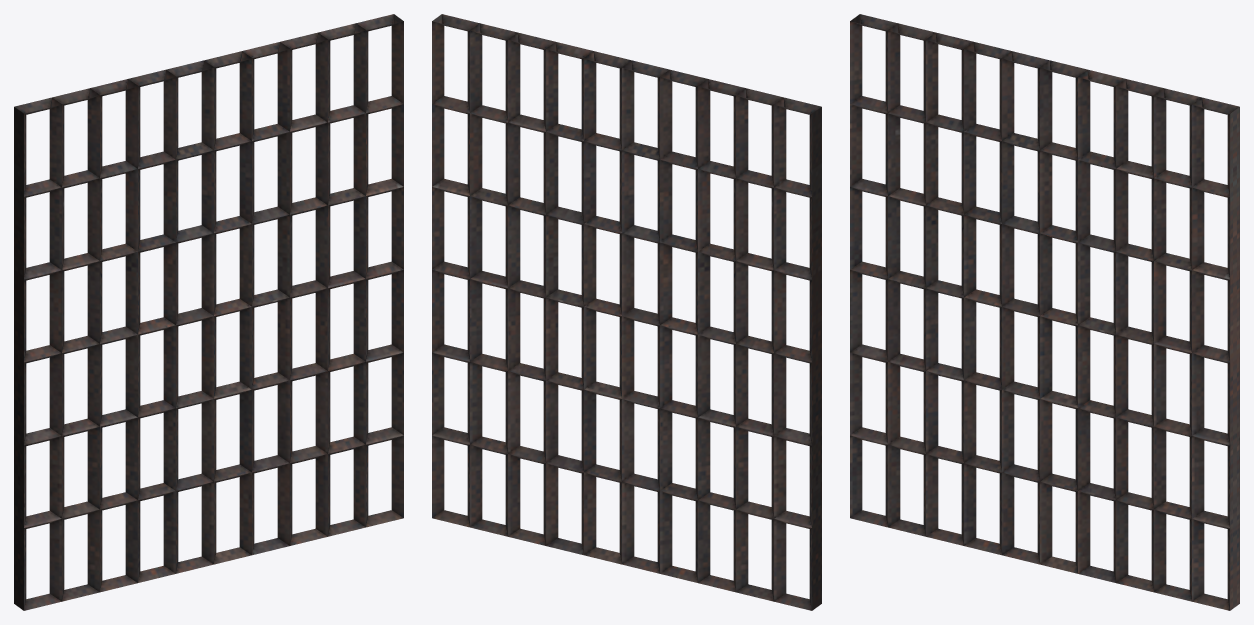
Rendered from grill_2m.fbx.
3 views of the same model, side by side, from view 1: azimuth 30°, elevation 25°; view 2: azimuth 150°, elevation 25°; view 3: azimuth 330°, elevation 25° (orthographic).
Parts seen in each view (by area): view 1: grill_2m; view 2: grill_2m; view 3: grill_2m.
Part boxes in pixels (x1,y1,x2,y2): grill_2m: (14,14,403,610); grill_2m: (432,14,821,610); grill_2m: (850,14,1239,610).
Size of the model in its own units: 200 by 250 by 9.
1 material, 1 textured.
